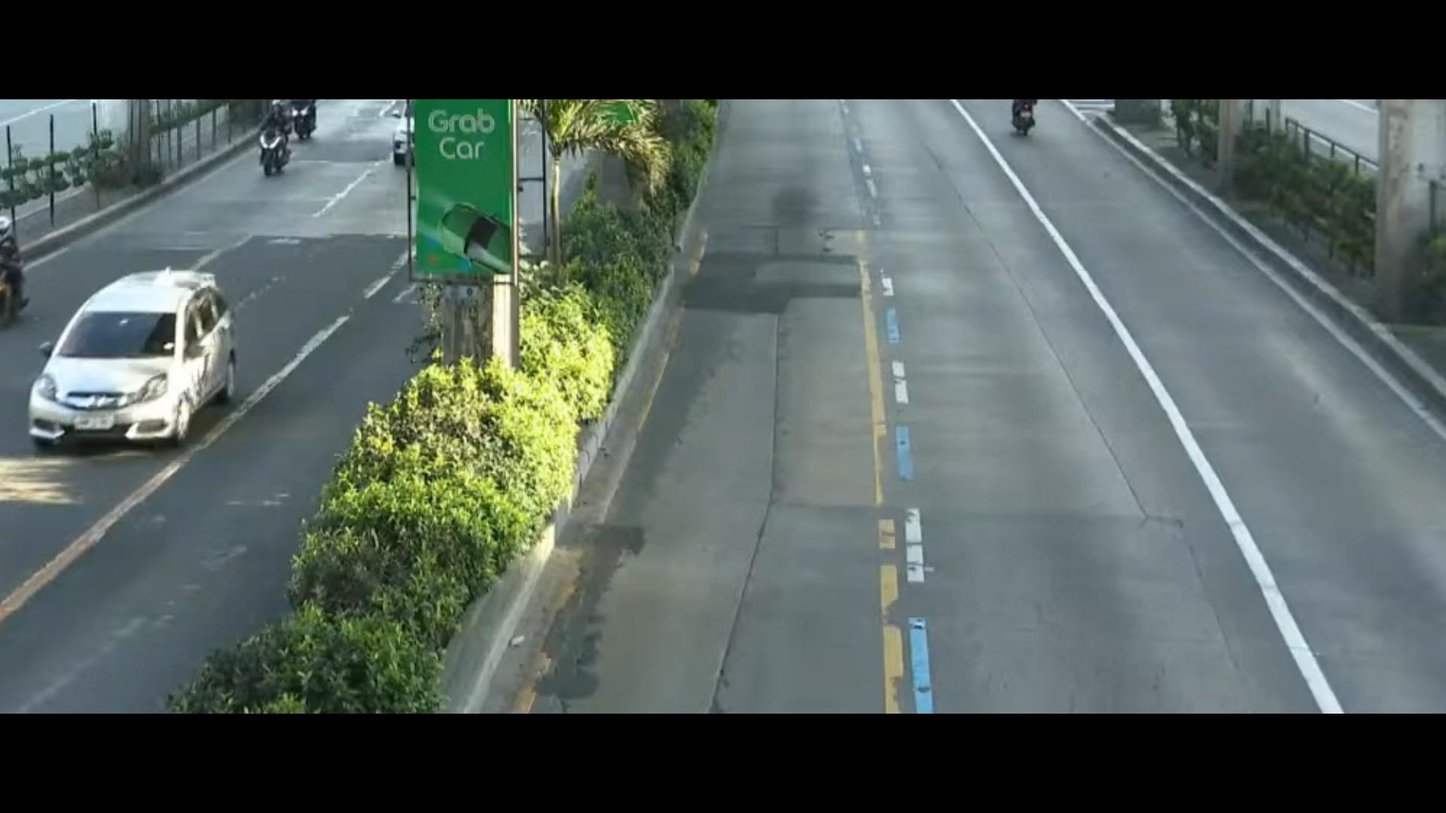Motorcycle: (0, 213, 46, 327), (271, 87, 326, 137), (248, 113, 292, 175), (993, 100, 1040, 139)
SUV: (27, 266, 262, 471)
